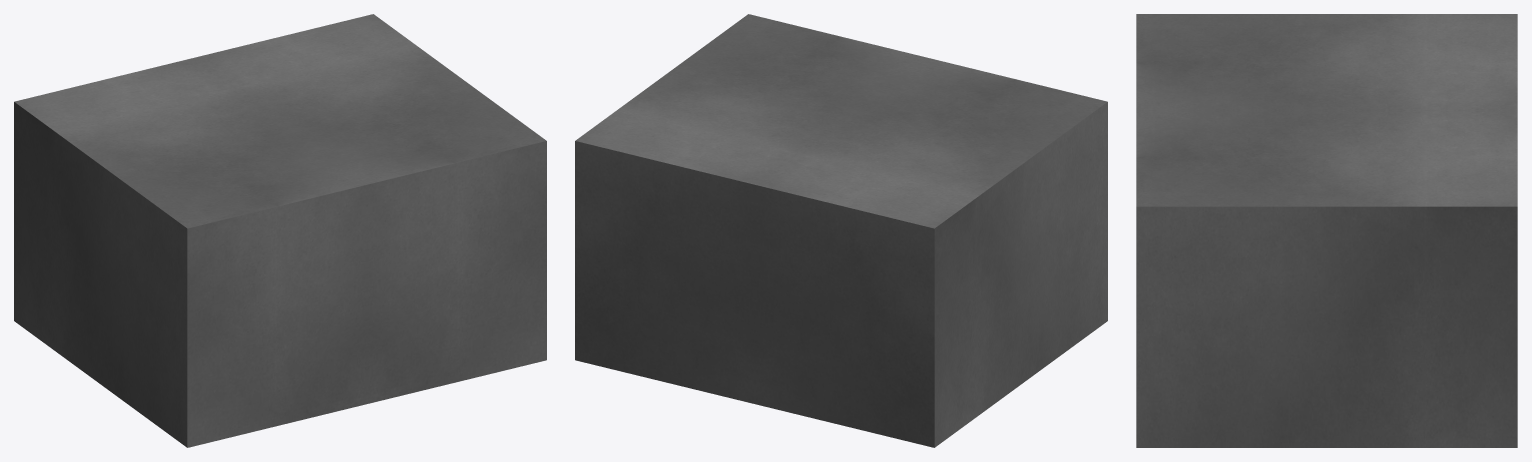
Rendered from gas_body.obj.
3 views of the same model, side by side, from view 1: azimuth 30°, elevation 25°; view 2: azimuth 150°, elevation 25°; view 3: azimuth 270°, elevation 25° (orthographic). The views are drawn at different scales.
Visible parts, largest first — view 1: Cube; view 2: Cube; view 3: Cube.
Boxes of the visible parts, <box> form: Cube: <box>14,14,546,447</box>; Cube: <box>575,14,1107,447</box>; Cube: <box>1136,14,1517,447</box>.
Bounding box in the file's own units: 18.56 × 10.83 × 15.51.
Materials: 1 (1 with a texture image).
